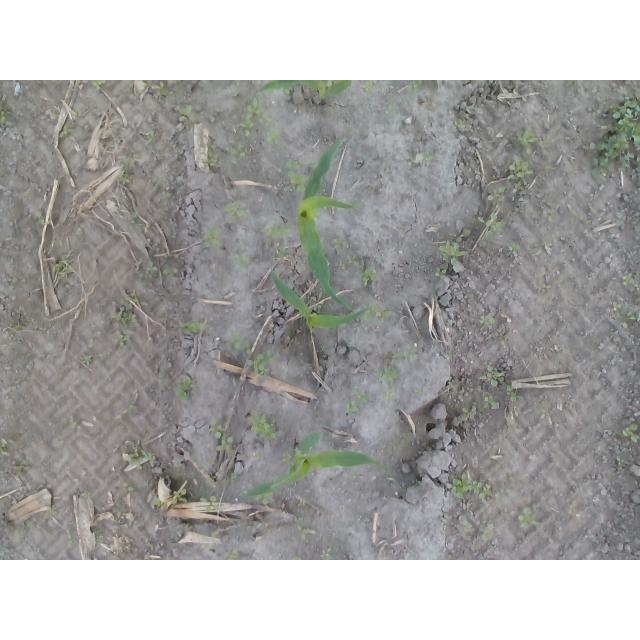Maize: (296, 137, 356, 312), (240, 433, 393, 500), (270, 270, 372, 333), (256, 81, 352, 100)
Weeds: (582, 92, 640, 176), (451, 472, 493, 501), (283, 157, 309, 194), (245, 410, 275, 439), (124, 443, 157, 469), (508, 128, 539, 154), (247, 349, 276, 376), (438, 241, 467, 266), (478, 213, 505, 239), (172, 319, 211, 337), (225, 330, 253, 354), (343, 389, 369, 414), (507, 156, 533, 180), (479, 365, 506, 387), (363, 304, 394, 323), (109, 310, 137, 331), (258, 224, 288, 243), (518, 507, 541, 530), (225, 200, 246, 224), (376, 366, 398, 387), (407, 150, 434, 167), (614, 425, 638, 444), (356, 266, 377, 287), (203, 144, 221, 168), (175, 380, 197, 399), (123, 292, 149, 308), (54, 260, 74, 280), (216, 436, 235, 457), (203, 228, 222, 248), (503, 382, 522, 402), (175, 104, 195, 123), (200, 496, 222, 513), (230, 142, 247, 163), (209, 418, 226, 439), (383, 351, 406, 366), (312, 290, 325, 315), (486, 186, 506, 202), (255, 490, 275, 506), (294, 516, 307, 540), (114, 330, 131, 347), (170, 488, 188, 504), (150, 80, 168, 96), (246, 98, 260, 118), (234, 253, 251, 269), (265, 128, 281, 145), (479, 523, 494, 541), (405, 343, 420, 361), (204, 471, 222, 486), (0, 438, 14, 457), (620, 311, 636, 327), (241, 118, 255, 136), (12, 460, 33, 472), (144, 261, 157, 280), (332, 235, 348, 250), (381, 386, 396, 402), (480, 315, 496, 330), (116, 171, 132, 186), (464, 535, 476, 553), (461, 405, 476, 419), (407, 80, 424, 92), (0, 99, 8, 124), (483, 394, 497, 408), (59, 126, 74, 139), (320, 80, 333, 94), (44, 505, 57, 519), (259, 114, 274, 126), (14, 318, 29, 330), (222, 474, 238, 485), (536, 283, 553, 293), (162, 266, 179, 276), (346, 254, 359, 267), (320, 548, 333, 561), (621, 272, 635, 284), (121, 482, 136, 493), (35, 212, 46, 227), (568, 501, 579, 515), (224, 549, 238, 560), (93, 81, 107, 92), (145, 131, 156, 145), (462, 520, 474, 532), (508, 242, 520, 254), (512, 181, 523, 194), (454, 118, 465, 131), (129, 212, 140, 225), (123, 157, 138, 166), (207, 456, 218, 468), (543, 211, 555, 222), (435, 267, 447, 278), (81, 355, 93, 366), (278, 246, 287, 259), (613, 301, 624, 311), (281, 453, 291, 464), (514, 405, 523, 417), (124, 406, 136, 415), (364, 80, 372, 93), (411, 480, 422, 489), (460, 230, 471, 239), (385, 107, 396, 116), (539, 138, 548, 148), (413, 386, 423, 395), (153, 498, 163, 507), (540, 409, 548, 420), (134, 259, 142, 270), (616, 456, 625, 465), (565, 136, 575, 144), (338, 259, 346, 269), (282, 87, 292, 95), (309, 162, 319, 170), (24, 520, 32, 529), (567, 81, 577, 88), (165, 381, 172, 391), (456, 339, 466, 346), (81, 491, 91, 498), (161, 192, 171, 199), (66, 538, 74, 546), (545, 164, 554, 171), (71, 421, 78, 430), (447, 380, 455, 387), (205, 542, 212, 550), (114, 137, 122, 144), (177, 186, 184, 194), (448, 554, 457, 560), (446, 351, 453, 358), (253, 453, 260, 460), (211, 531, 218, 538), (634, 284, 640, 292), (75, 227, 81, 235), (292, 556, 302, 560), (397, 227, 403, 233), (150, 543, 155, 550)
